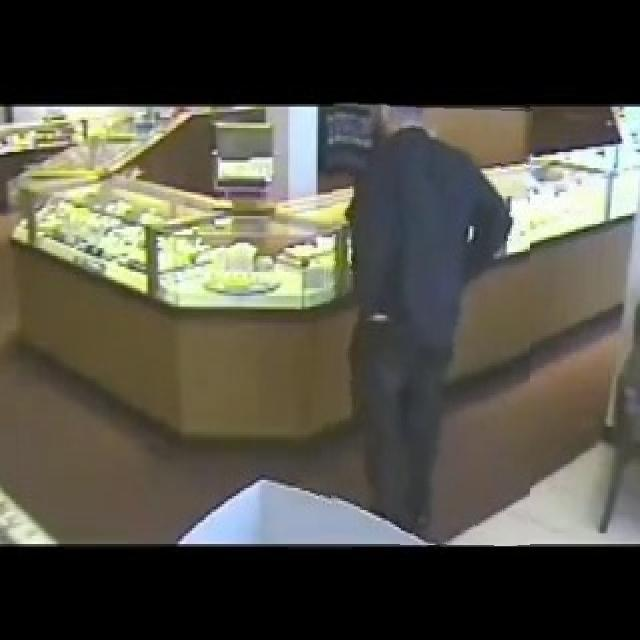Normal: (322, 103, 530, 545)
